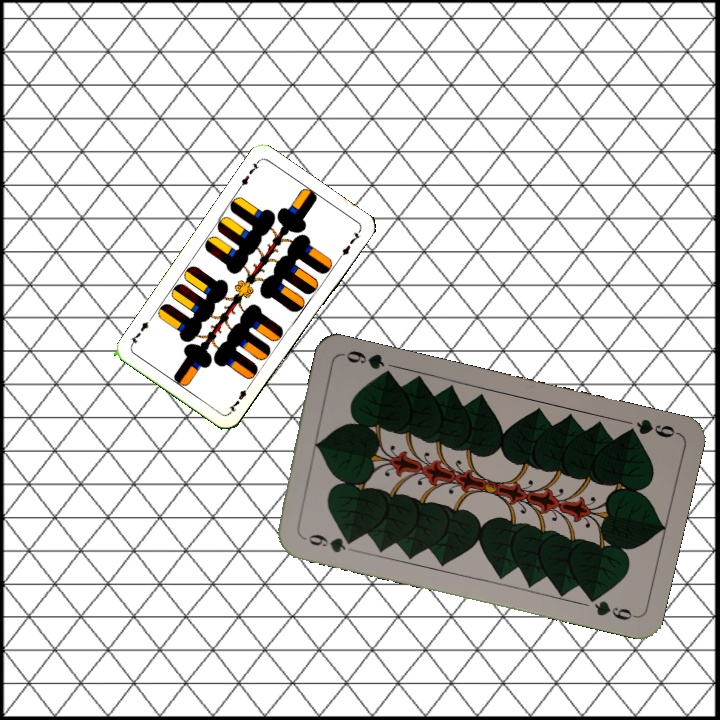E7: (224, 380, 253, 416), (234, 157, 262, 192)
G9: (297, 530, 357, 556), (619, 415, 680, 440)
